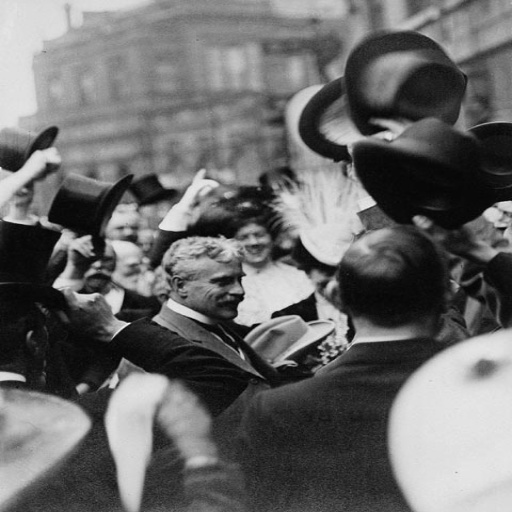hand: (408, 215, 480, 256), (67, 291, 117, 338), (176, 166, 217, 204), (22, 144, 64, 175), (370, 116, 412, 141), (67, 233, 96, 266)
